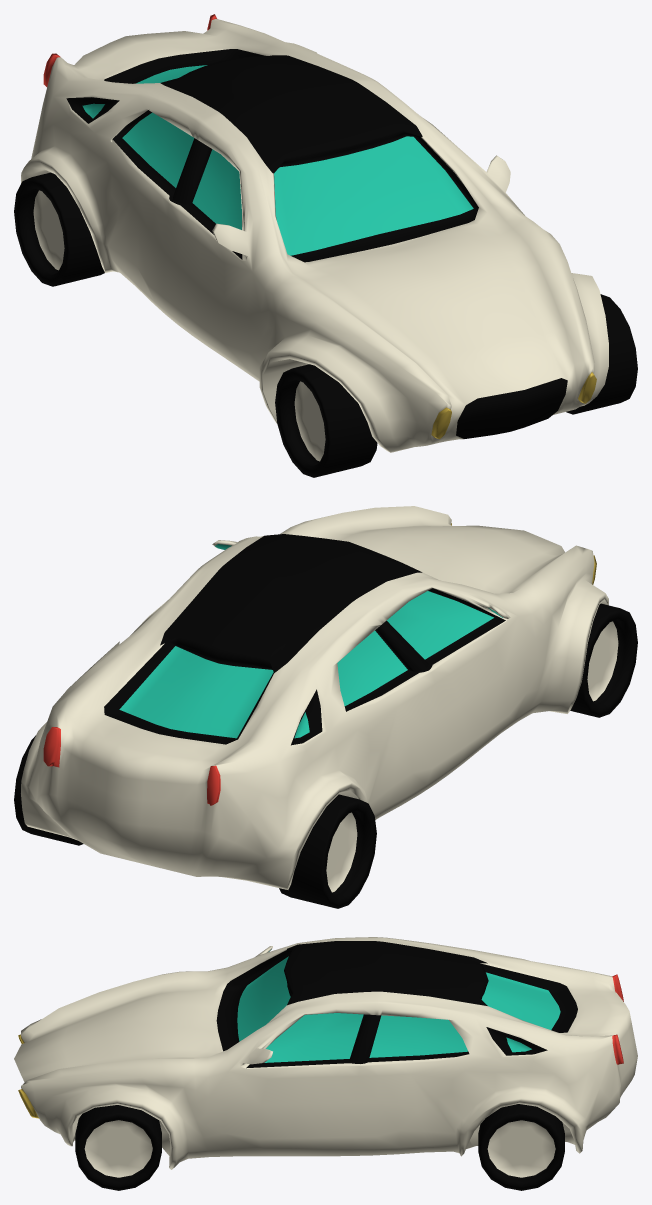
File: TeslaSmoothTest.fbx
The picture shows the model from 3 angles, top to bottom: view 1: azimuth 30°, elevation 25°; view 2: azimuth 150°, elevation 25°; view 3: azimuth 270°, elevation 25°; orthographic projection. The views are drawn at different scales.
Parts seen in each view (by area): view 1: Smooth2; view 2: Smooth2; view 3: Smooth2.
Boxes of the visible parts, x1,y1,x2,y2 form: Smooth2: (14, 14, 637, 477); Smooth2: (14, 506, 637, 908); Smooth2: (14, 937, 637, 1190).
Bounding box in the file's own units: 100 × 66.28 × 218.
